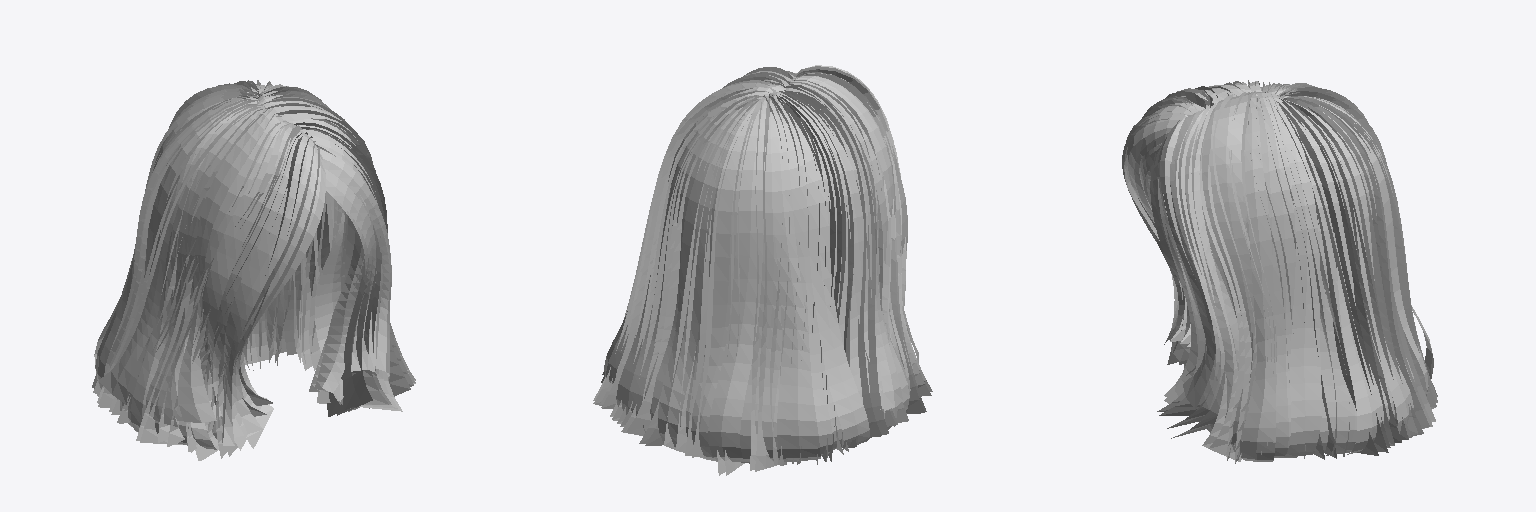
Rendered from hair.obj.
The picture shows the model from 3 angles: view 1: azimuth 30°, elevation 25°; view 2: azimuth 150°, elevation 25°; view 3: azimuth 270°, elevation 25°; orthographic projection.
Visible parts, largest first — view 1: head; view 2: head; view 3: head.
Boxes of the visible parts, <box> form: head: <box>92,80,415,460</box>; head: <box>593,65,932,475</box>; head: <box>1122,80,1437,463</box>.
Size of the model in its own units: 0.1102 by 0.125 by 0.1079.